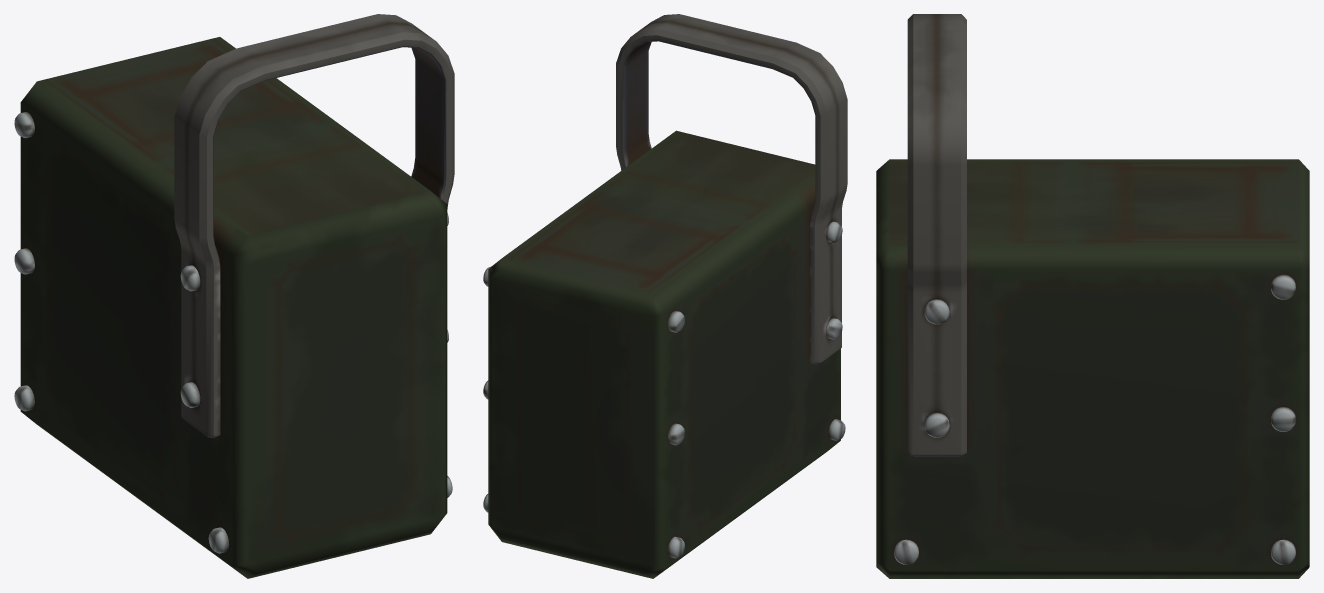
The model's file is R_lower_arm_gun_02_C1_Mag_03.fbx.
3 renders of one model, left to right at view 1: azimuth 30°, elevation 25°; view 2: azimuth 150°, elevation 25°; view 3: azimuth 270°, elevation 25°, orthographic. The views are drawn at different scales.
Parts seen in each view (by area): view 1: R_lower_arm_gun_02_C1_Mag_03; view 2: R_lower_arm_gun_02_C1_Mag_03; view 3: R_lower_arm_gun_02_C1_Mag_03.
Part boxes in pixels (<box>): R_lower_arm_gun_02_C1_Mag_03: <box>14,14,454,578</box>; R_lower_arm_gun_02_C1_Mag_03: <box>483,14,847,578</box>; R_lower_arm_gun_02_C1_Mag_03: <box>876,14,1309,578</box>.
Size of the model in its own units: 16.38 by 30.15 by 24.56.
1 material, 1 textured.
